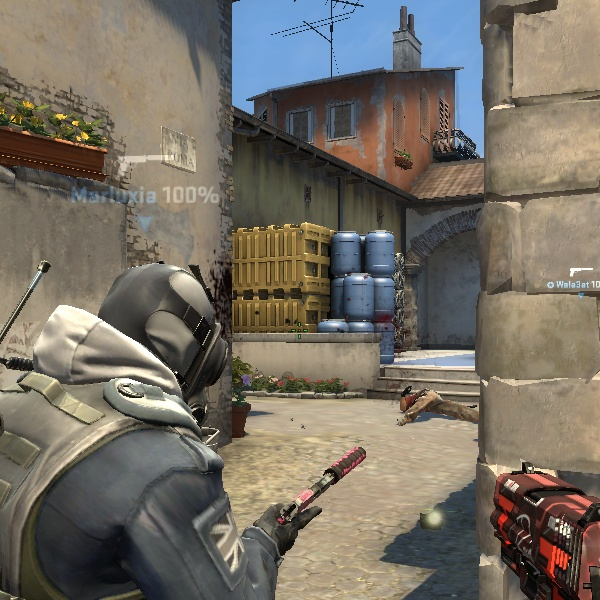ct_head: (51, 254, 246, 427)
